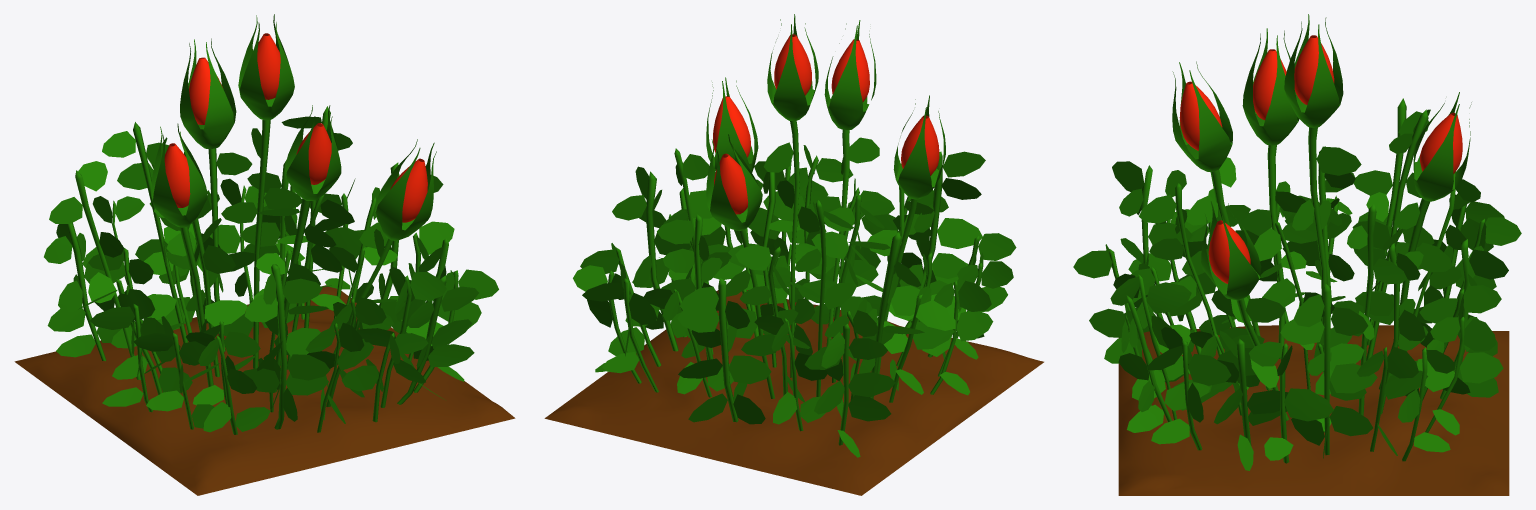
The model's file is red-rose-p3-leaf.glb.
3 renders of one model, left to right at view 1: azimuth 30°, elevation 25°; view 2: azimuth 150°, elevation 25°; view 3: azimuth 270°, elevation 25°, orthographic. The views are drawn at different scales.
Visible parts, largest first — view 1: 3_nft_out_of_bloom; view 2: 3_nft_out_of_bloom; view 3: 3_nft_out_of_bloom.
Boxes of the visible parts, box(x1,y1,x2,y2) form: 3_nft_out_of_bloom: box(14, 14, 515, 495); 3_nft_out_of_bloom: box(544, 14, 1043, 495); 3_nft_out_of_bloom: box(1073, 14, 1521, 495).
Bounding box in the file's own units: 0.7993 × 0.7814 × 0.8042.
